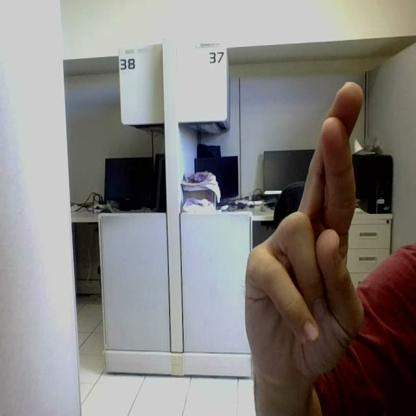R: (245, 82, 364, 370)
